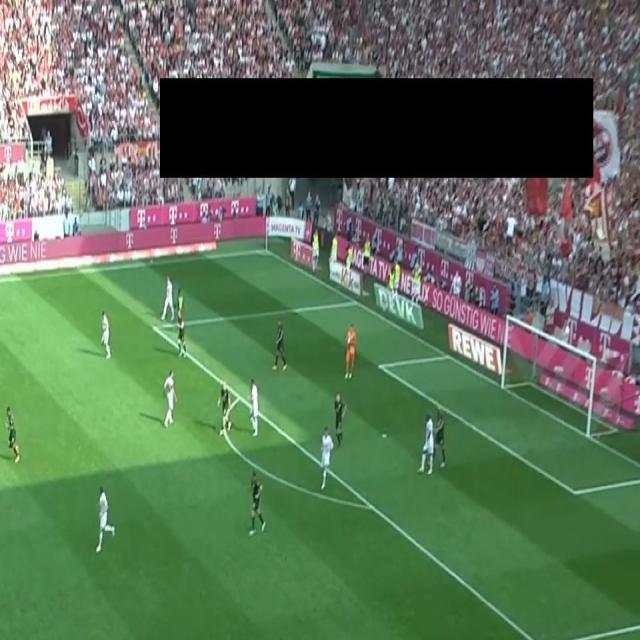ball: (346, 335, 351, 346)
